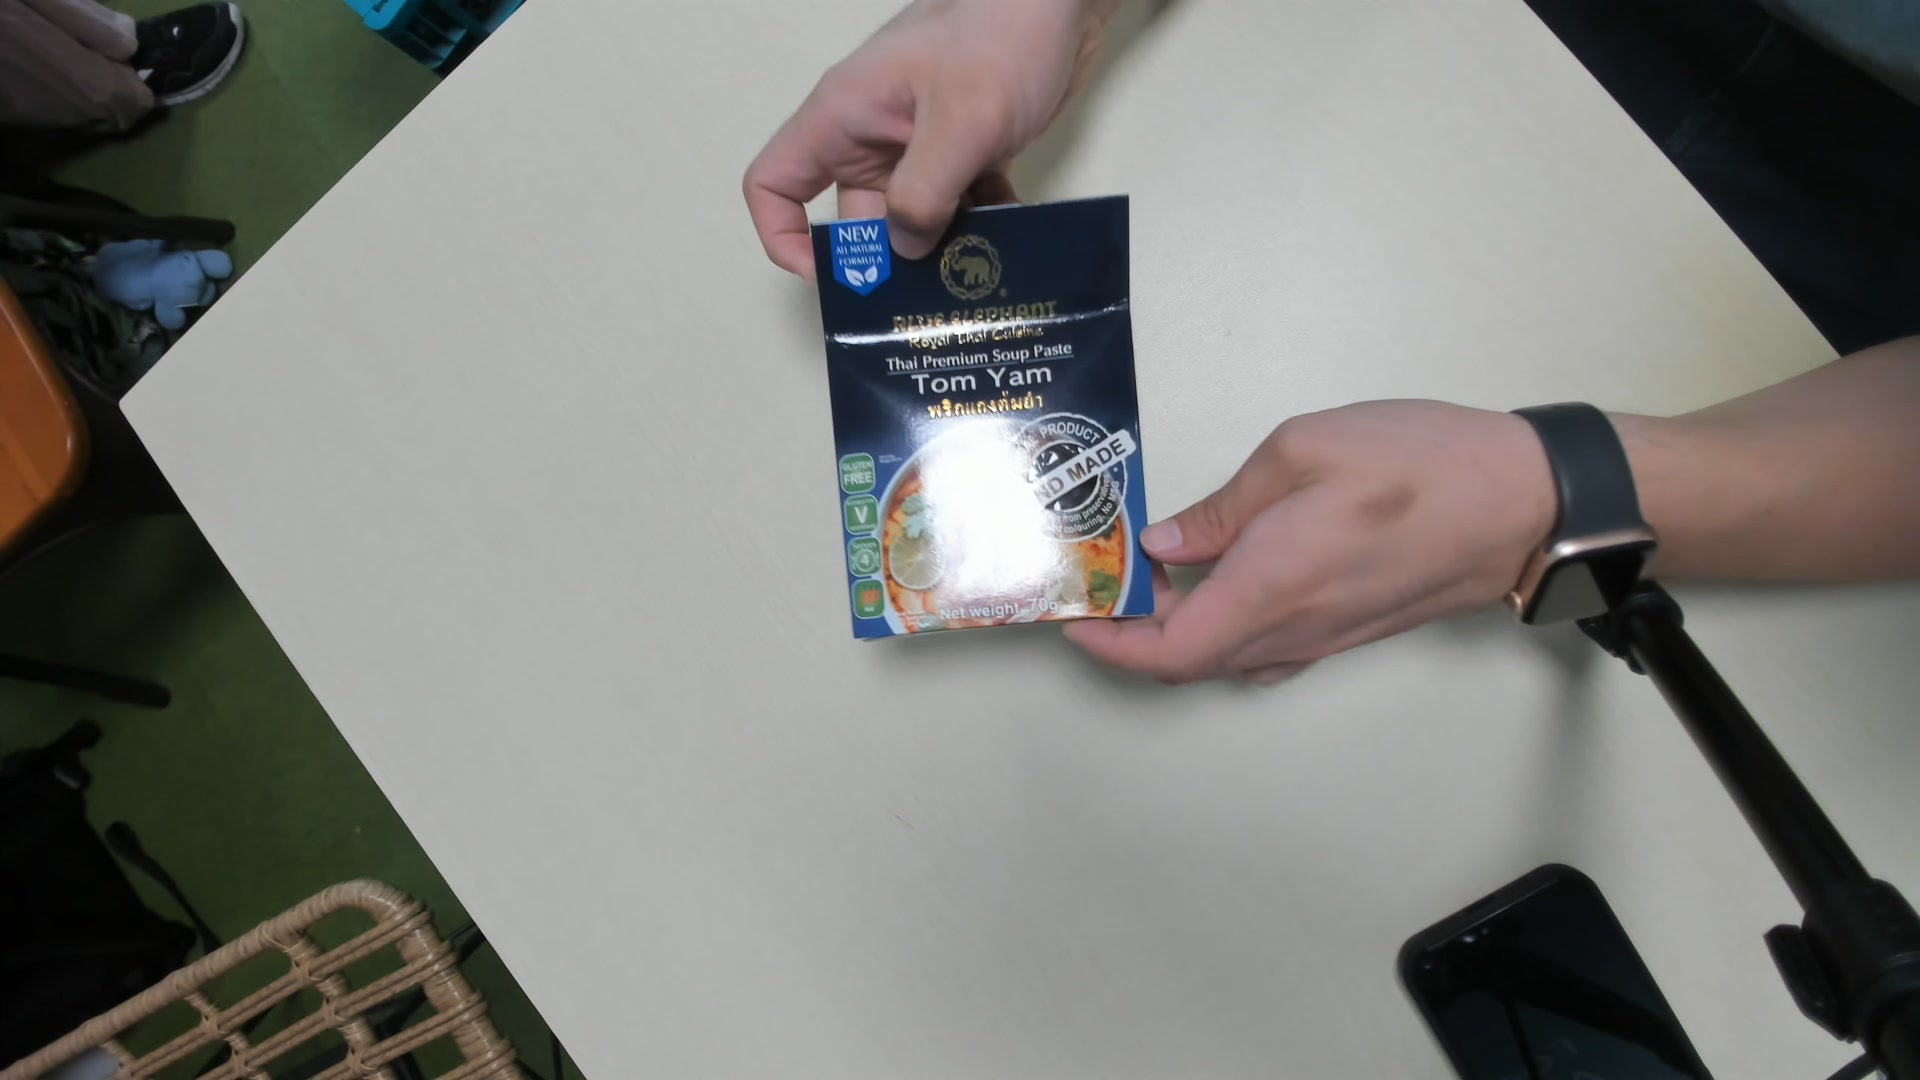OtherSauceDressing_0-99g_Halal_NonHealthy: (808, 196, 1154, 644)
